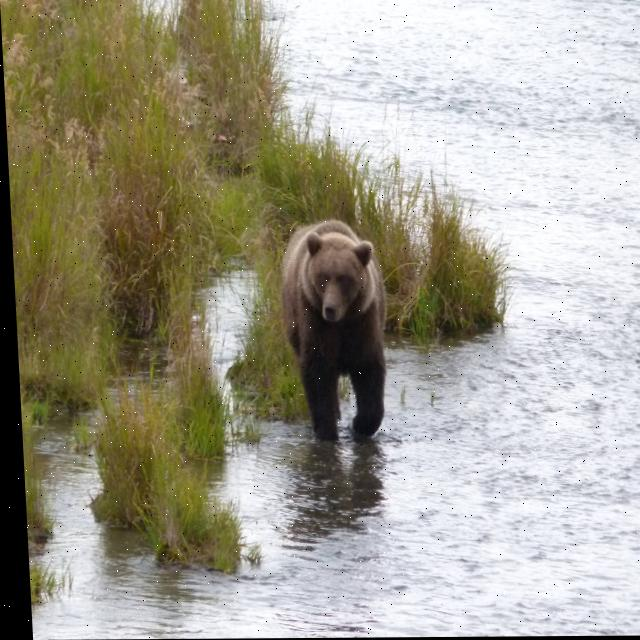bear face: (277, 218, 389, 440)
